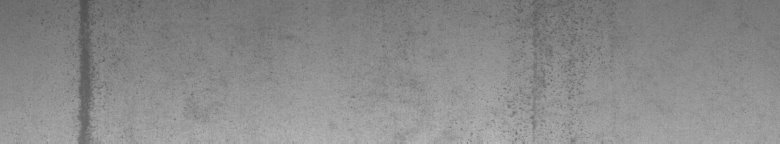hd: (67, 4, 140, 136)
